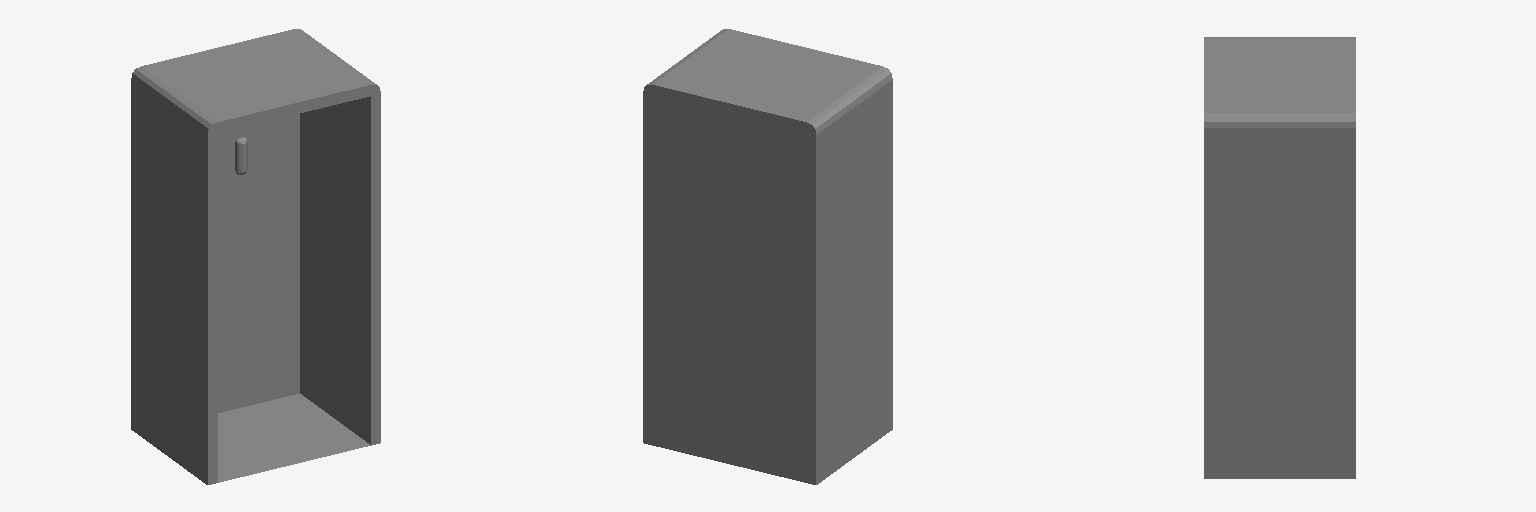
File: filingCabinet.obj
3 renders of one model, left to right at view 1: azimuth 30°, elevation 25°; view 2: azimuth 150°, elevation 25°; view 3: azimuth 270°, elevation 25°, orthographic.
Parts seen in each view (by area): view 1: PhoneBooth; view 2: PhoneBooth; view 3: PhoneBooth.
Boxes of the visible parts, x1=… form: PhoneBooth: x1=131, y1=29, x2=380, y2=484; PhoneBooth: x1=643, y1=29, x2=892, y2=484; PhoneBooth: x1=1204, y1=37, x2=1355, y2=478.
Size of the model in its own units: 101 by 200 by 76.82.